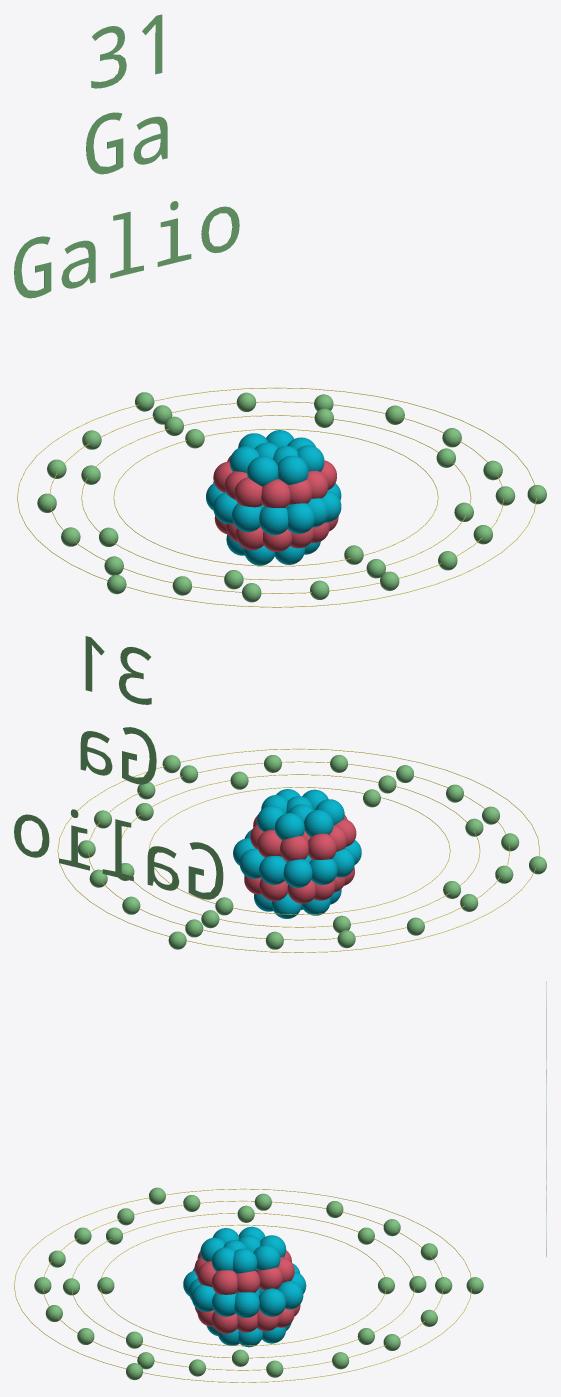
File: 31-GALIO-ANDROID.glb
3 renders of one model, top to bottom at view 1: azimuth 30°, elevation 25°; view 2: azimuth 150°, elevation 25°; view 3: azimuth 270°, elevation 25°, orthographic. The views are drawn at different scales.
Parts seen in each view (by area): view 1: Mesh_Mesh_head_geo.001_lambert2SG.001; view 2: Mesh_Mesh_head_geo.001_lambert2SG.001; view 3: Mesh_Mesh_head_geo.001_lambert2SG.001.
Part boxes in pixels (left/top/right/bottom): Mesh_Mesh_head_geo.001_lambert2SG.001: left=14, top=14, right=546, bottom=607; Mesh_Mesh_head_geo.001_lambert2SG.001: left=14, top=636, right=546, bottom=952; Mesh_Mesh_head_geo.001_lambert2SG.001: left=14, top=981, right=546, bottom=1382.
Size of the model in its own units: 160 by 136 by 186.
